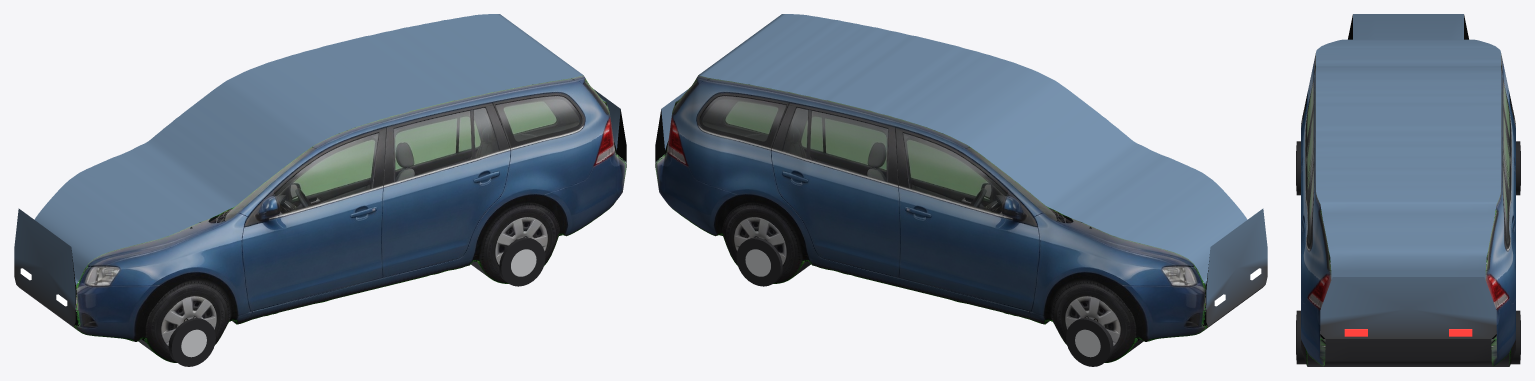
The model's file is wagon.glb.
3 views of the same model, side by side, from view 1: azimuth 30°, elevation 25°; view 2: azimuth 150°, elevation 25°; view 3: azimuth 270°, elevation 25° (orthographic). The views are drawn at different scales.
Parts seen in each view (by area): view 1: wagon; view 2: wagon; view 3: wagon.
Part boxes in pixels (x1=…): wagon: x1=14, y1=14, x2=626, y2=366; wagon: x1=655, y1=14, x2=1267, y2=366; wagon: x1=1296, y1=14, x2=1520, y2=366.
Bounding box in the file's own units: 3.93 × 1.34 × 1.34.
8 materials, 2 textured.
